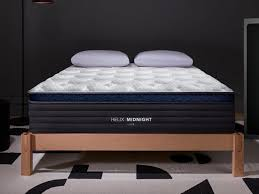bed-matress: (28, 58, 236, 133)
